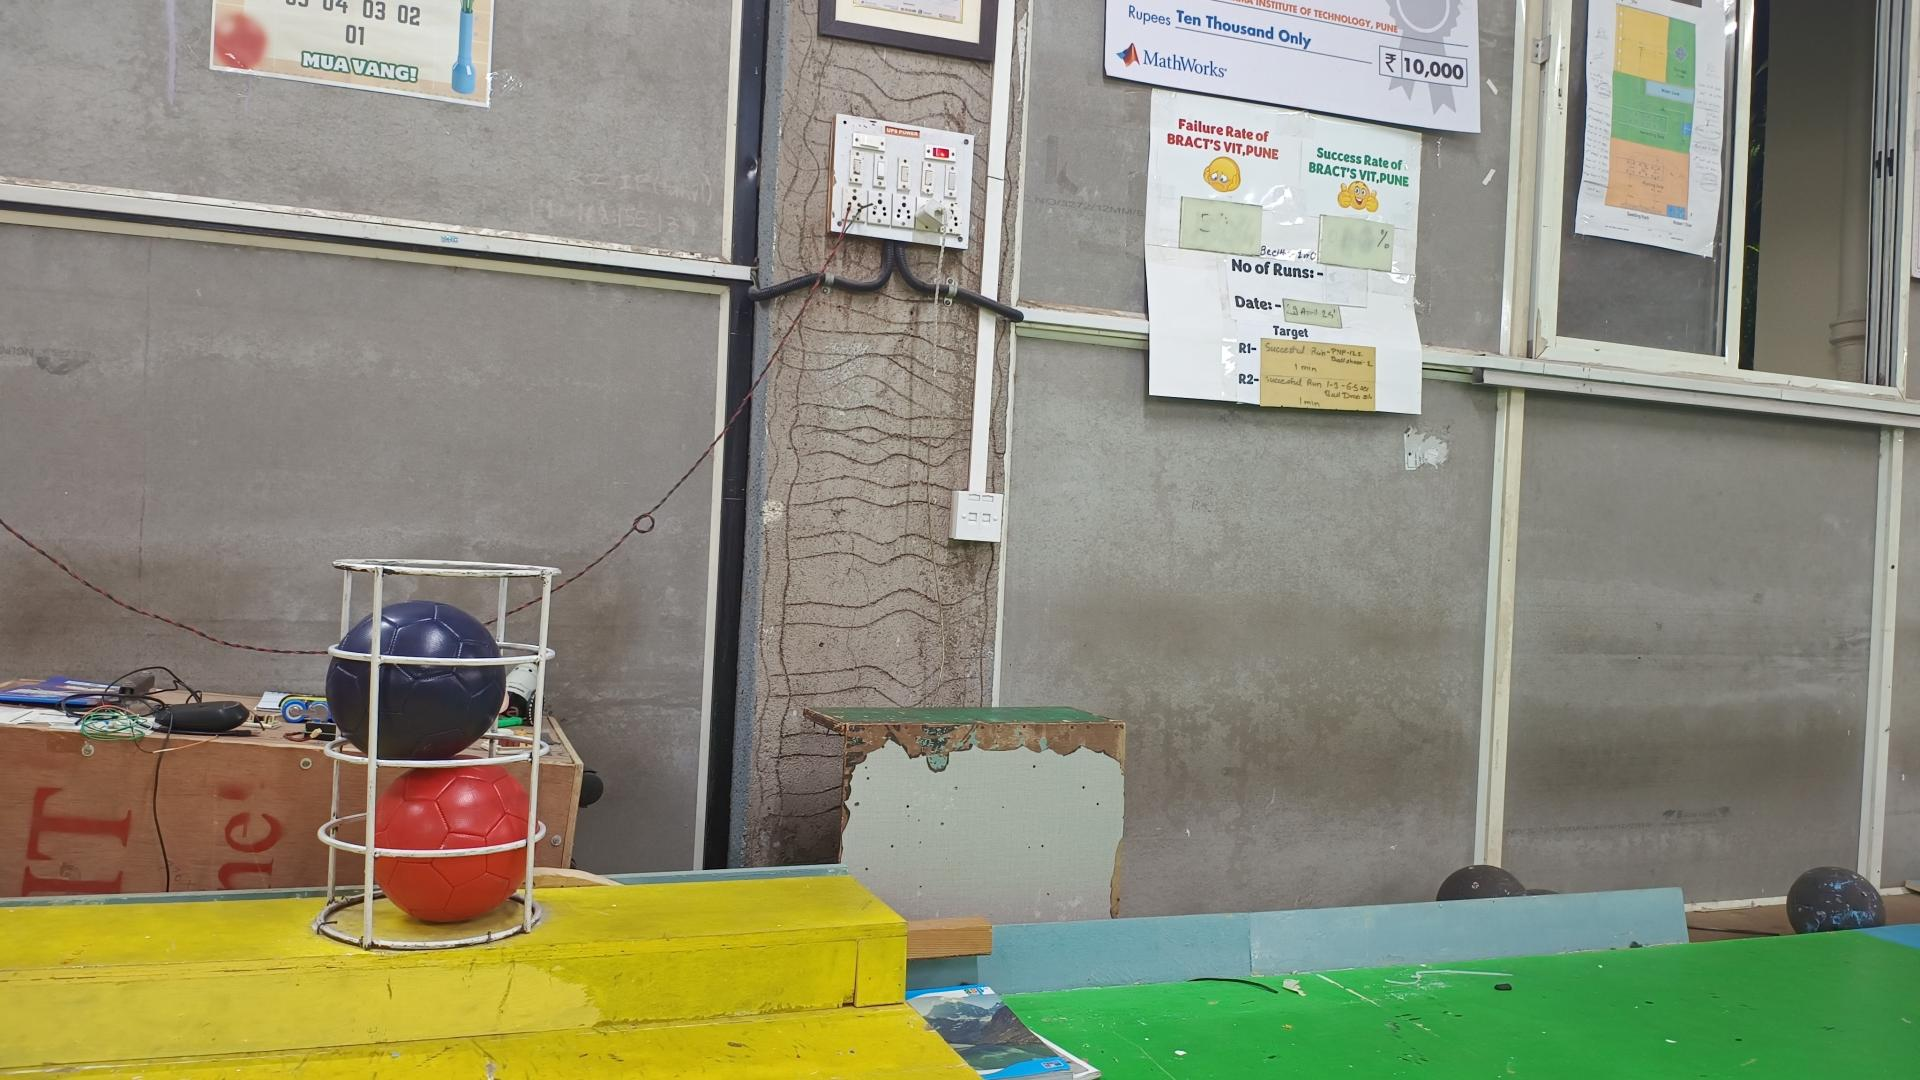dhoka: (326, 601, 506, 764)
laale: (371, 764, 539, 922)
